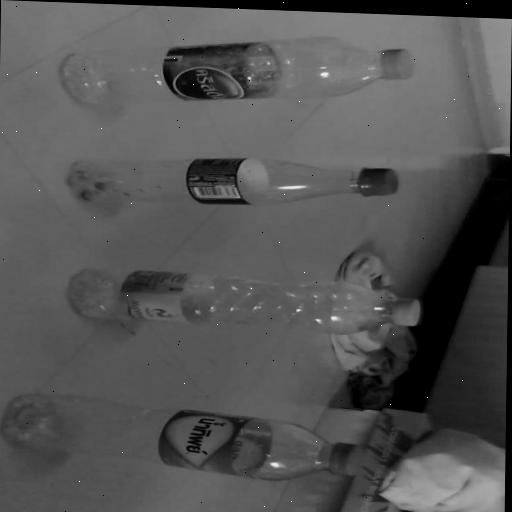bottle: (0, 394, 364, 484), (58, 27, 414, 115), (65, 265, 423, 333), (67, 151, 397, 211)
